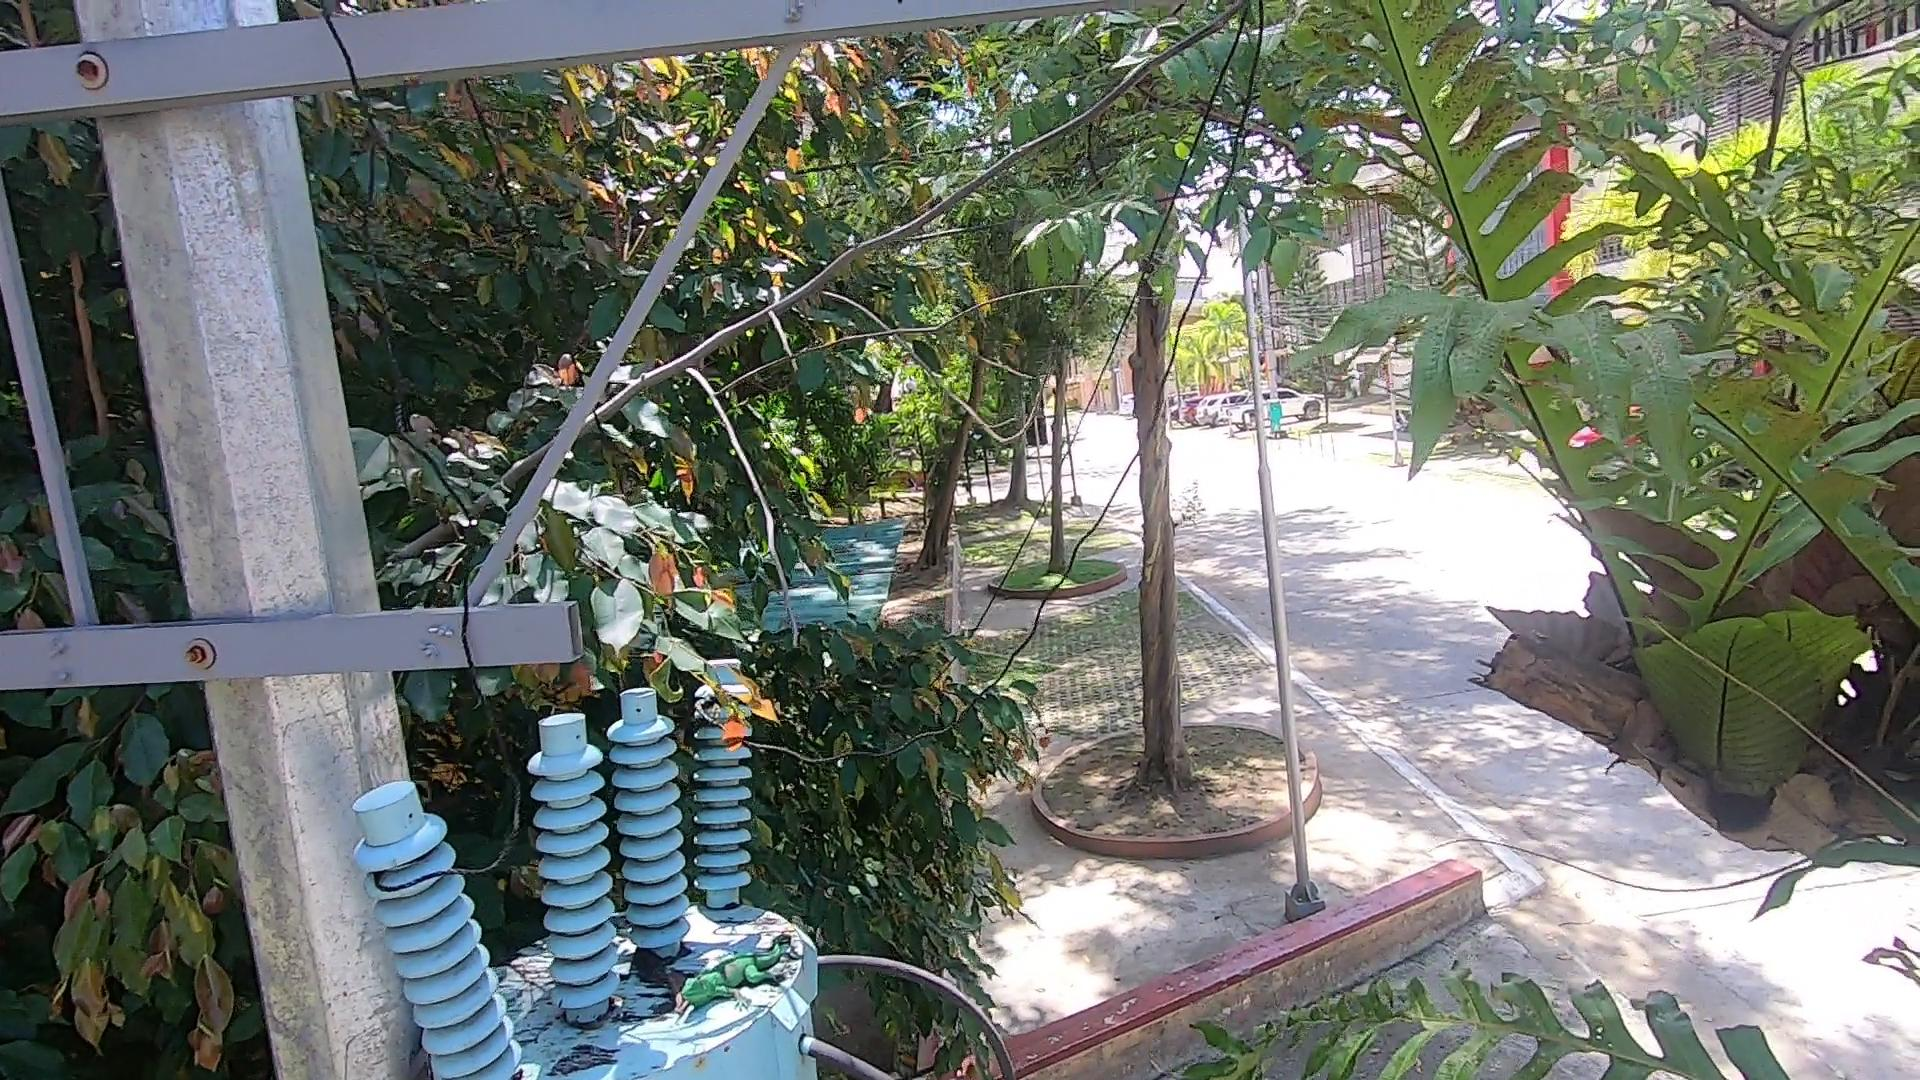leaf: (661, 963, 698, 1015), (628, 949, 670, 980)
tree branch: (371, 1, 1304, 646)
